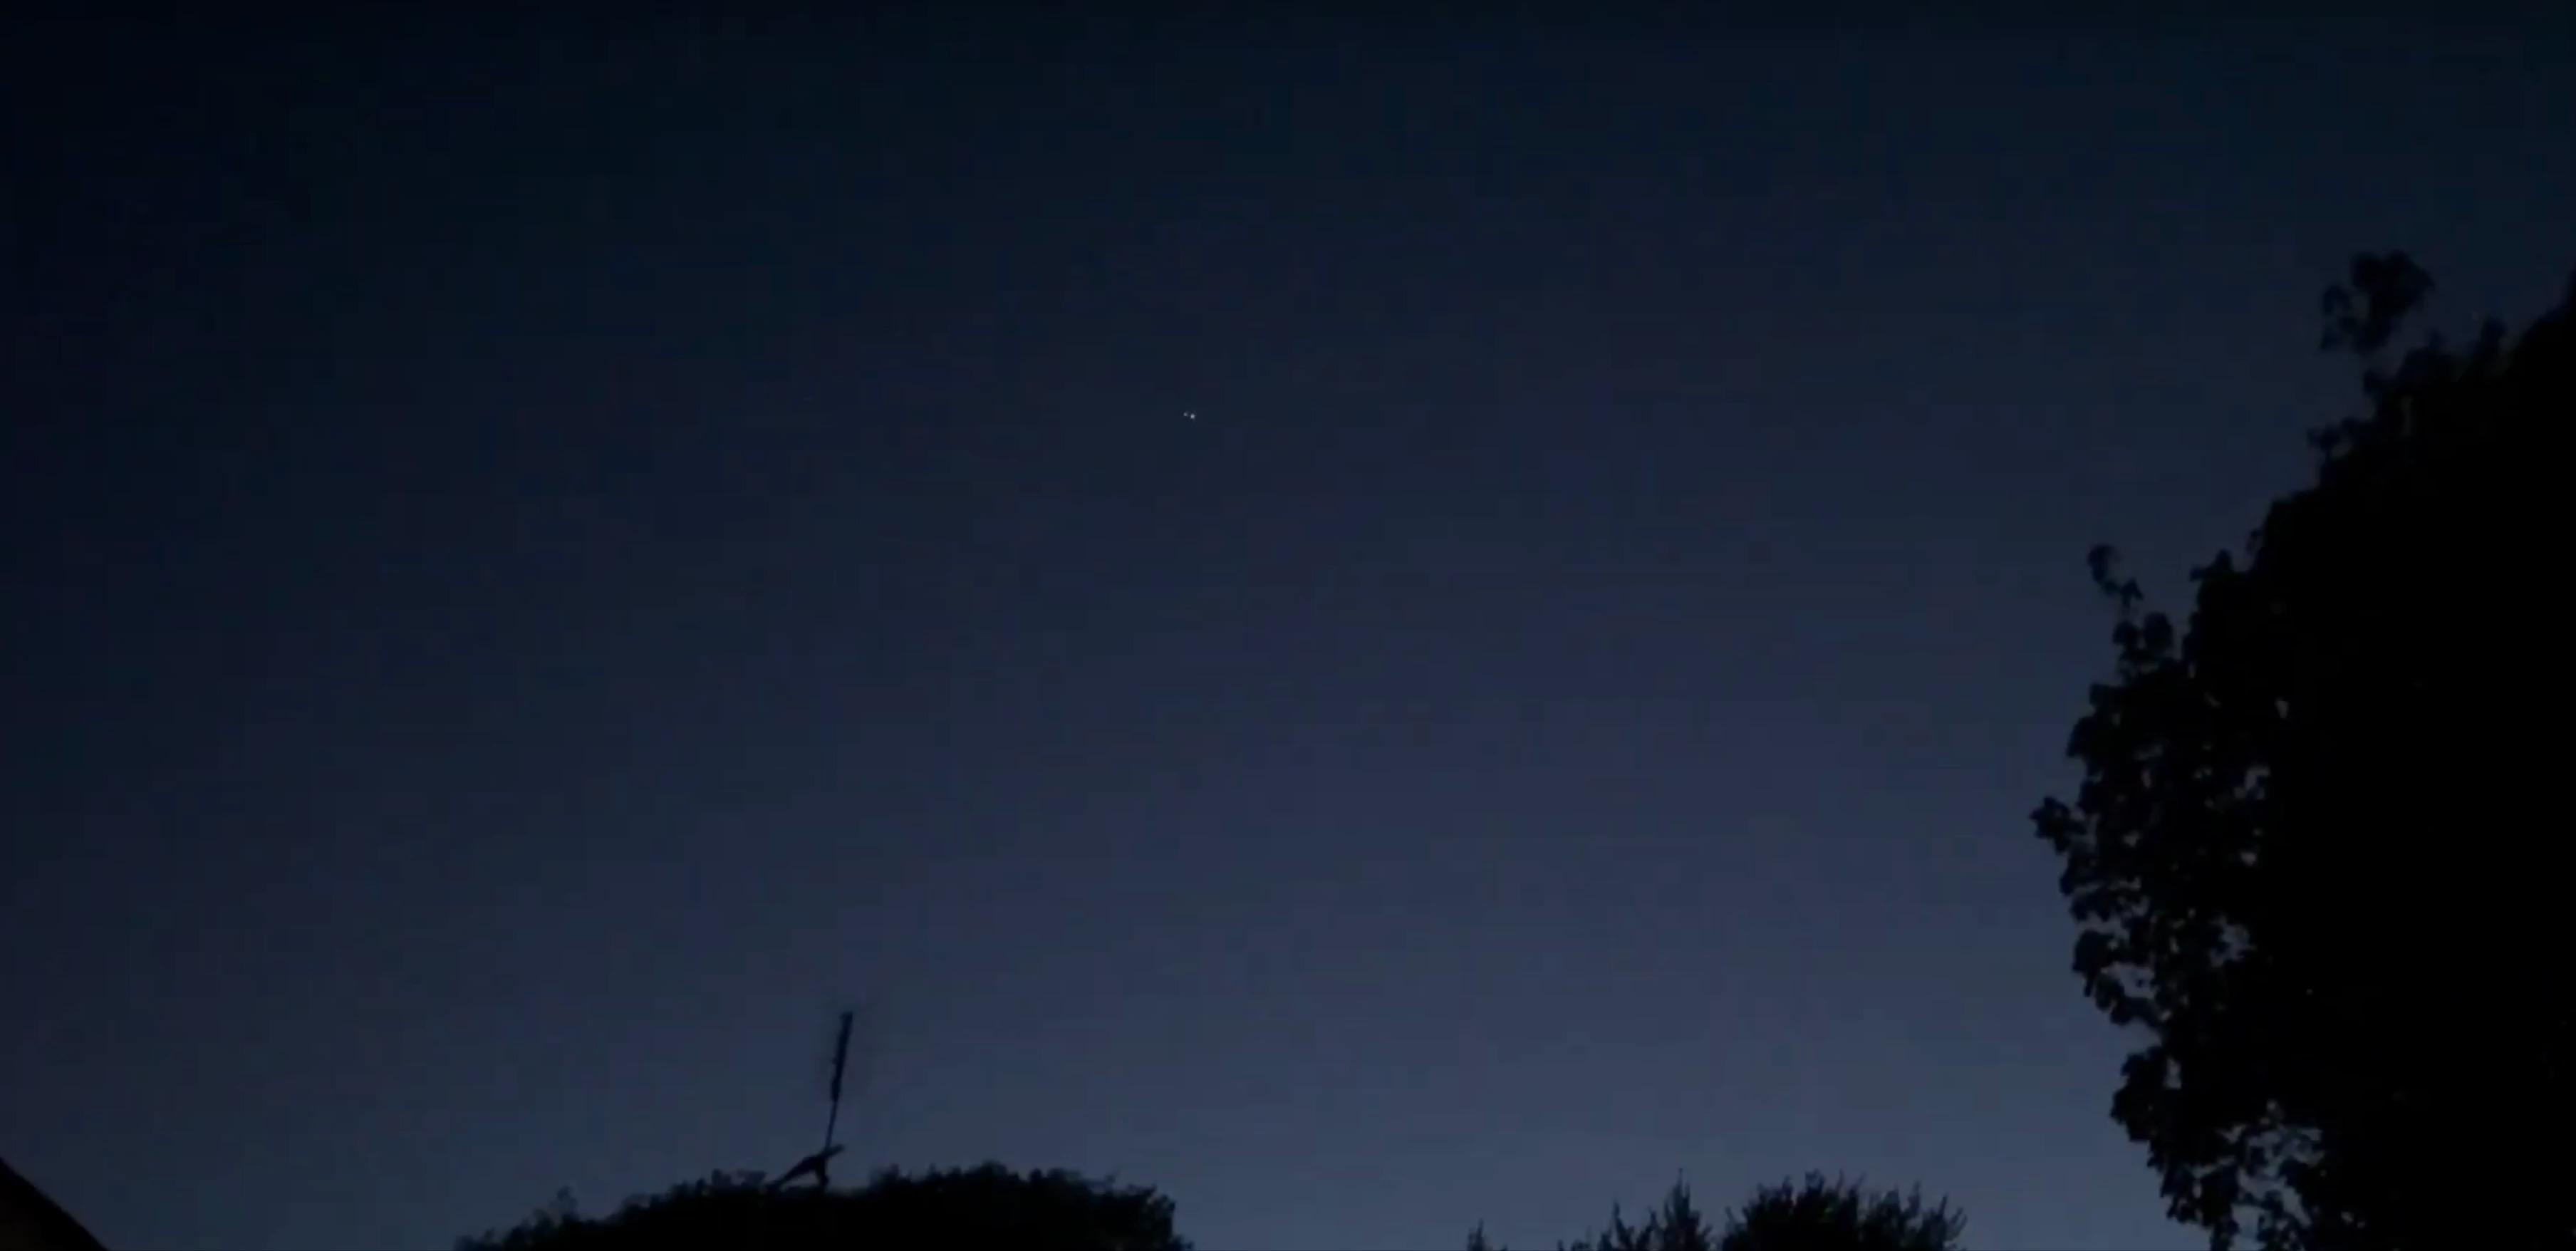Plane: (1173, 395, 1217, 437)
